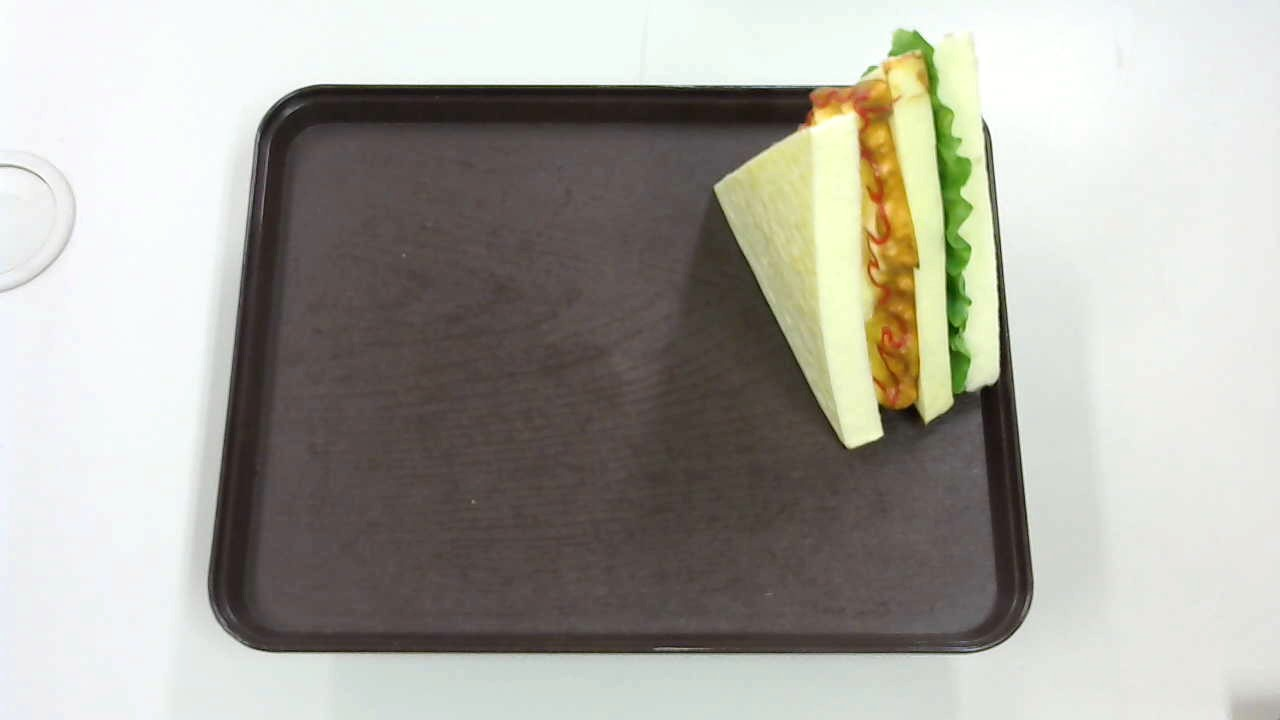sandwich: (713, 26, 1002, 449)
